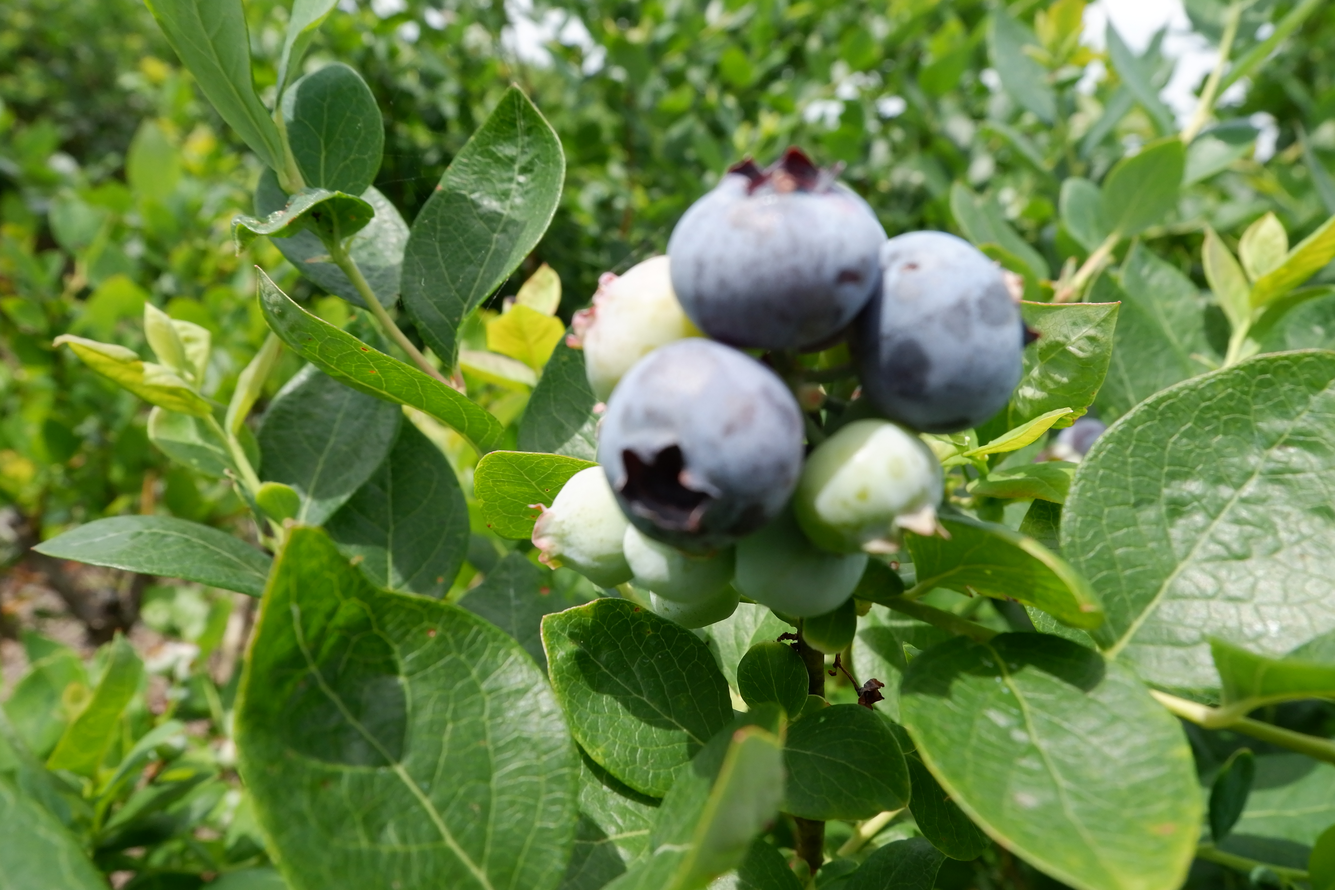Immature: (796, 422, 950, 557), (577, 260, 697, 399), (739, 510, 864, 617), (534, 468, 626, 585), (625, 522, 734, 605), (651, 582, 738, 626)
Mature: (597, 338, 802, 542), (669, 156, 879, 347), (851, 235, 1021, 430)
